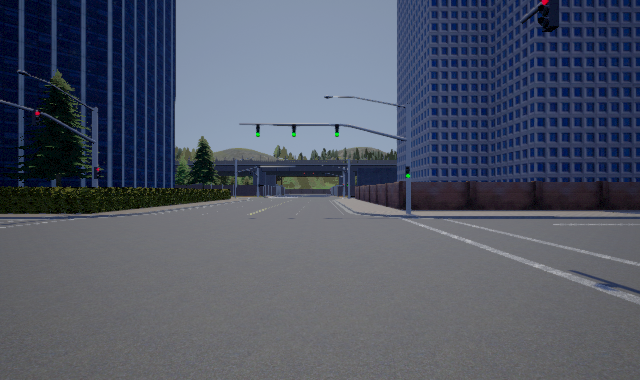traffic_light: (538, 1, 559, 32), (32, 110, 41, 126), (94, 167, 101, 179), (405, 166, 410, 178), (335, 124, 339, 137), (292, 124, 296, 137), (256, 124, 260, 137)
